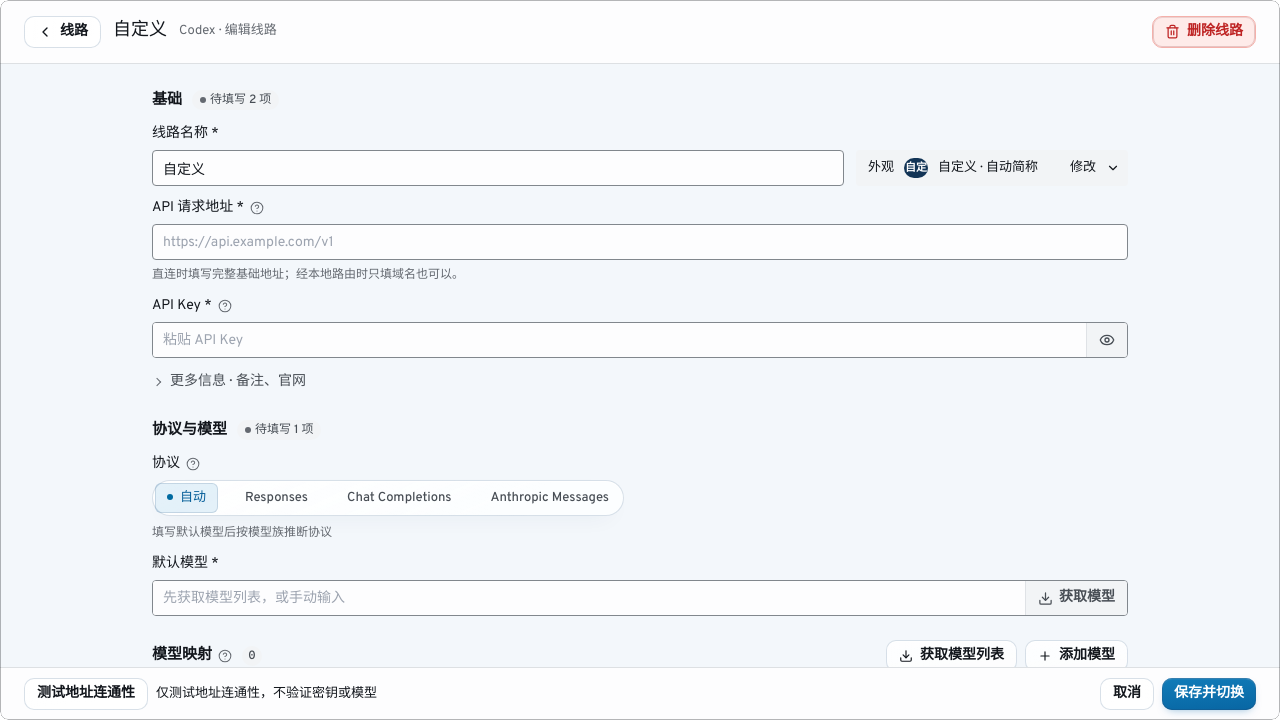
it: full-page provider editor › retains existing custom colors and provider metadata in the draft
Click the heading named "修改线路外观".
click(992, 168)  # box left=856, top=150, right=1128, bottom=186
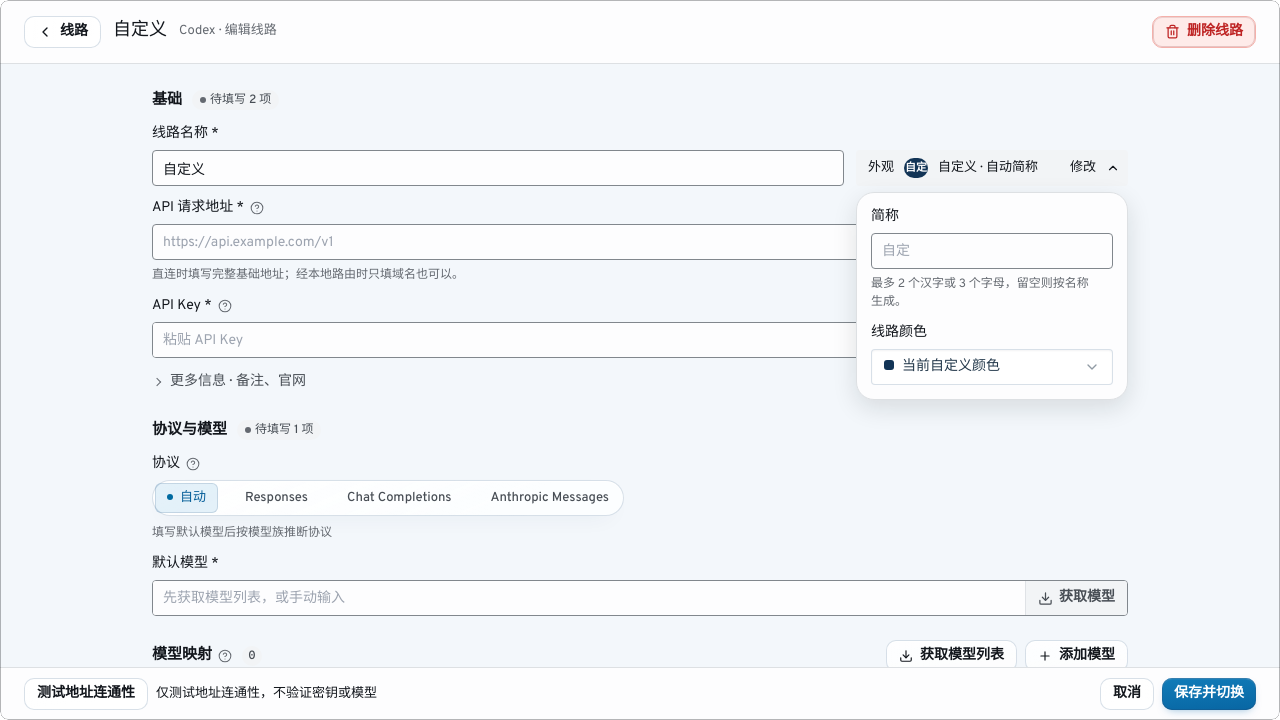
Result: the dropdown named "线路颜色" reads "当前自定义颜色"
Click the dropdown named "线路颜色".
click(992, 367)  # box left=871, top=349, right=1113, bottom=385
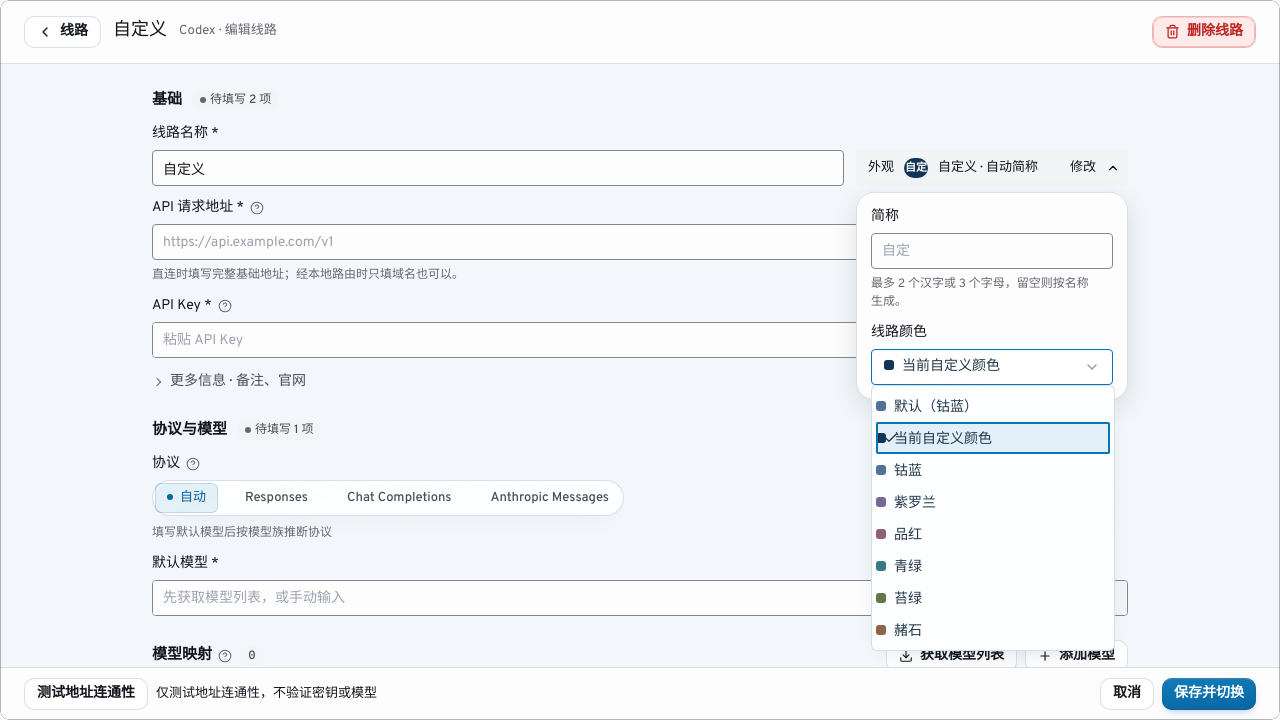
Result: the option "当前自定义颜色" is shown at left=876, top=422, right=1110, bottom=454
